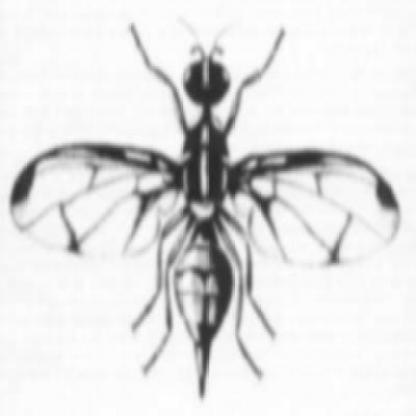fruit fly: (12, 25, 402, 396)
